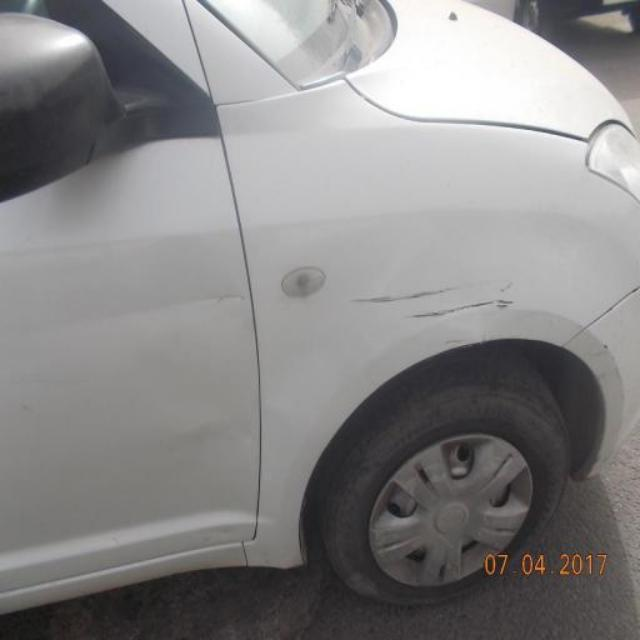crack: (404, 281, 523, 331), (347, 277, 463, 316)
dent: (141, 334, 275, 501), (12, 373, 116, 390)
scratch: (2, 284, 248, 348), (12, 397, 43, 424)
